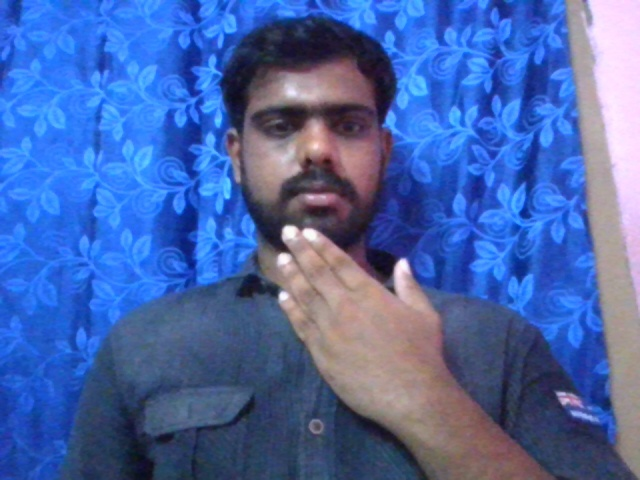Thanks: (276, 217, 441, 405)
